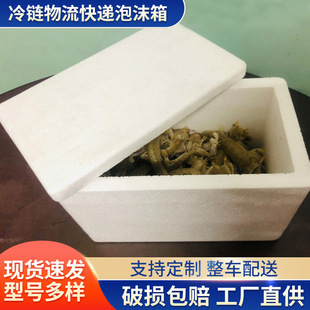泡沫箱: (0, 34, 310, 242)
